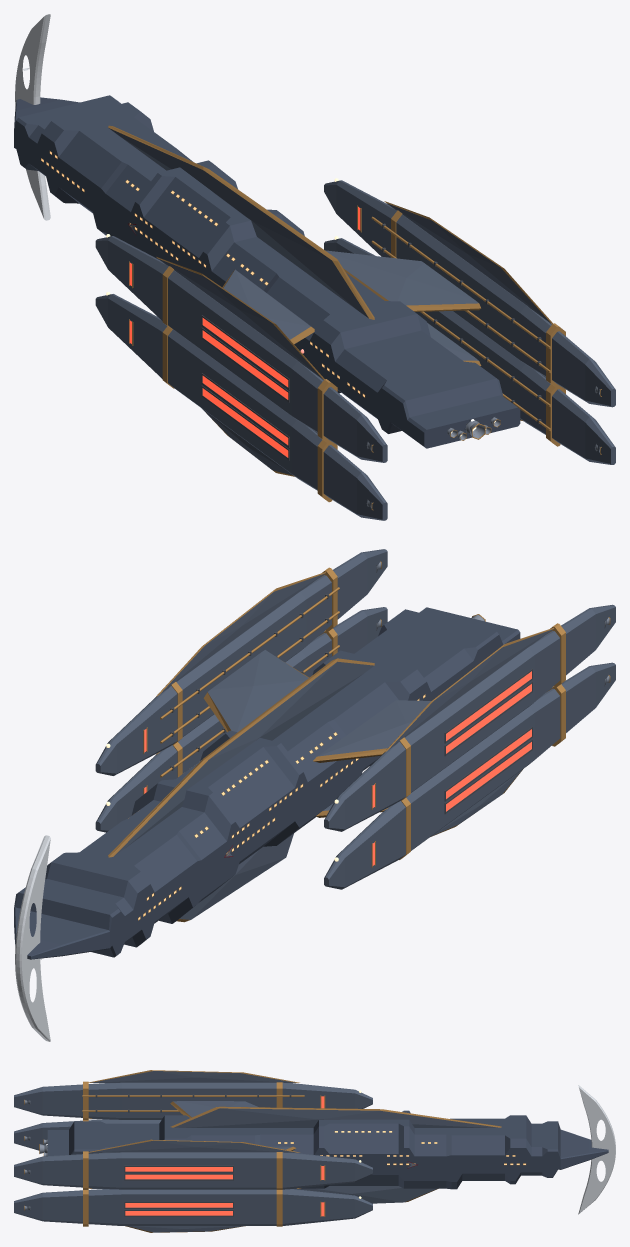
The model's file is dreadnought.glb.
The picture shows the model from 3 angles, top to bottom: view 1: azimuth 30°, elevation 25°; view 2: azimuth 150°, elevation 25°; view 3: azimuth 270°, elevation 25°; orthographic projection. The views are drawn at different scales.
Parts seen in each view (by area): view 1: hull_hull, nacelle_starboard_2_hull, nacelle_port_2_hull, nacelle_port_hull, nacelle_starboard_hull, hull_weapons_blade_steel, nacelle_starboard_2_metal_7b4013, nacelle_port_2_glow_grille, nacelle_port_glow_grille, nacelle_starboard_metal_7b4013, nacelle_port_2_metal_7b4013, nacelle_port_metal_14171d (+2 smaller); view 2: hull_hull, nacelle_starboard_2_hull, nacelle_port_2_hull, nacelle_port_hull, nacelle_starboard_hull, hull_weapons_blade_steel, nacelle_starboard_2_metal_7b4013, nacelle_port_glow_grille, nacelle_port_2_glow_grille, nacelle_port_2_metal_14171d, nacelle_port_metal_14171d, nacelle_port_2_metal_7b4013 (+2 smaller); view 3: hull_hull, nacelle_starboard_2_hull, nacelle_port_2_hull, nacelle_starboard_hull, hull_weapons_blade_steel, nacelle_starboard_2_glow_grille, nacelle_port_hull, nacelle_starboard_glow_grille, nacelle_port_2_metal_7b4013, nacelle_starboard_2_metal_14171d, nacelle_starboard_metal_14171d, nacelle_starboard_2_metal_7b4013 (+2 smaller).
Boxes of the visible parts, left/top/right/bottom form: hull_hull: left=14, top=95, right=520, bottom=448; nacelle_starboard_2_hull: left=324, top=180, right=615, bottom=407; nacelle_port_2_hull: left=95, top=236, right=387, bottom=462; nacelle_port_hull: left=95, top=294, right=387, bottom=520; nacelle_starboard_hull: left=324, top=238, right=615, bottom=464; hull_weapons_blade_steel: left=15, top=14, right=50, bottom=220; nacelle_starboard_2_metal_7b4013: left=357, top=205, right=601, bottom=396; nacelle_port_2_glow_grille: left=129, top=262, right=288, bottom=399; nacelle_port_glow_grille: left=129, top=320, right=288, bottom=457; nacelle_starboard_metal_7b4013: left=420, top=311, right=601, bottom=454; nacelle_port_2_metal_7b4013: left=129, top=261, right=373, bottom=452; nacelle_port_metal_14171d: left=201, top=373, right=368, bottom=506; hull_hull: left=14, top=607, right=520, bottom=959; nacelle_starboard_2_hull: left=95, top=549, right=387, bottom=775; nacelle_port_2_hull: left=313, top=604, right=615, bottom=831; nacelle_port_hull: left=315, top=662, right=615, bottom=889; nacelle_starboard_hull: left=95, top=607, right=387, bottom=832; hull_weapons_blade_steel: left=15, top=835, right=50, bottom=1041; nacelle_starboard_2_metal_7b4013: left=143, top=561, right=381, bottom=754; nacelle_port_glow_grille: left=372, top=729, right=531, bottom=865; nacelle_port_2_glow_grille: left=372, top=671, right=531, bottom=807; nacelle_port_2_metal_14171d: left=444, top=621, right=606, bottom=756; nacelle_port_metal_14171d: left=444, top=682, right=606, bottom=813; nacelle_port_2_metal_7b4013: left=371, top=617, right=610, bottom=809; hull_hull: left=47, top=1106, right=608, bottom=1203; nacelle_starboard_2_hull: left=14, top=1139, right=372, bottom=1189; nacelle_port_2_hull: left=14, top=1070, right=372, bottom=1119; nacelle_starboard_hull: left=14, top=1188, right=372, bottom=1232; hull_weapons_blade_steel: left=578, top=1085, right=615, bottom=1214; nacelle_starboard_2_glow_grille: left=125, top=1166, right=324, bottom=1179; nacelle_port_hull: left=14, top=1118, right=161, bottom=1150; nacelle_starboard_glow_grille: left=125, top=1202, right=324, bottom=1216; nacelle_port_2_metal_7b4013: left=24, top=1081, right=325, bottom=1120; nacelle_starboard_2_metal_14171d: left=30, top=1165, right=233, bottom=1180; nacelle_starboard_metal_14171d: left=30, top=1202, right=233, bottom=1216; nacelle_starboard_2_metal_7b4013: left=24, top=1151, right=325, bottom=1189.
Size of the model in its own units: 66.19 by 53.4 by 226.
